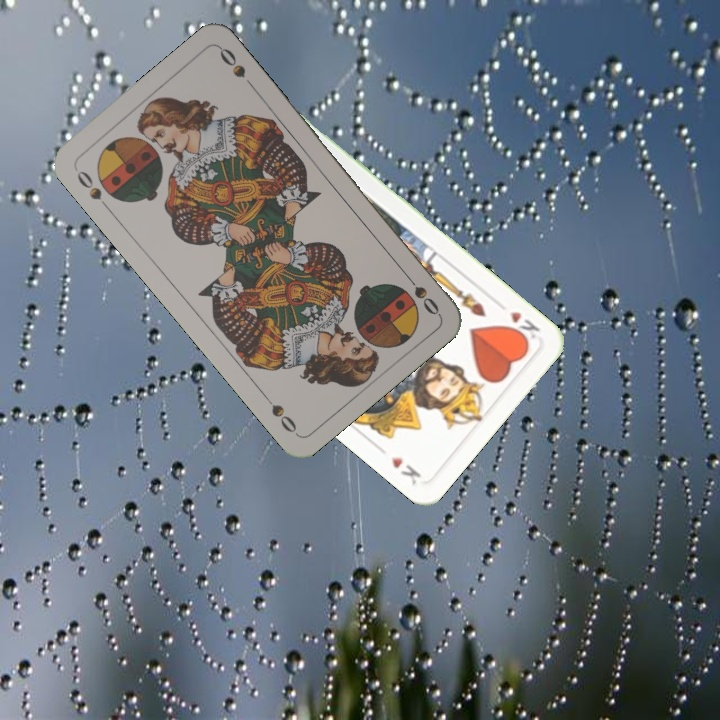HK: (503, 307, 543, 346)
SO: (399, 268, 442, 318), (72, 166, 113, 214)
